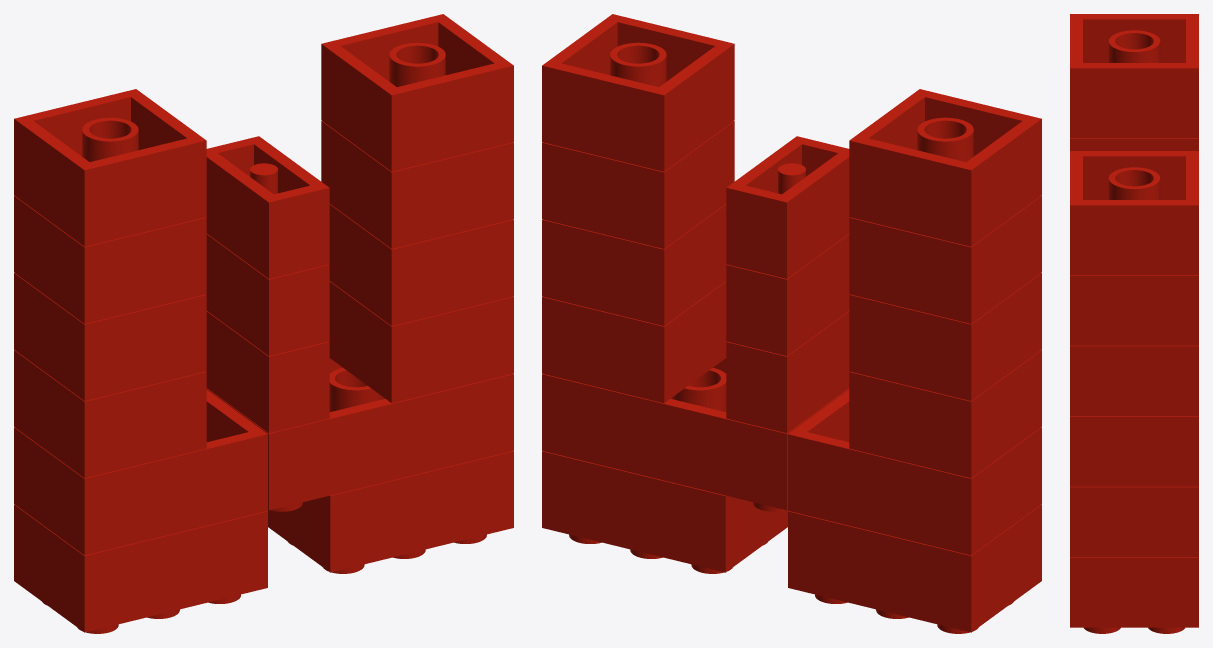
The picture shows the model from 3 angles, left to right: view 1: azimuth 30°, elevation 25°; view 2: azimuth 150°, elevation 25°; view 3: azimuth 270°, elevation 25°; orthographic projection. The views are drawn at different scales.
Visible parts, largest first — view 1: Inner-Node-W_dot_io-0, Inner-Node-W_dot_io-5, Inner-Node-W_dot_io-4, Inner-Node-W_dot_io-9, Inner-Node-W_dot_io-13, Inner-Node-W_dot_io-14, Inner-Node-W_dot_io-1, Inner-Node-W_dot_io-3, Inner-Node-W_dot_io-2, Inner-Node-W_dot_io-6, Inner-Node-W_dot_io-7, Inner-Node-W_dot_io-8 (+3 smaller); view 2: Inner-Node-W_dot_io-0, Inner-Node-W_dot_io-5, Inner-Node-W_dot_io-4, Inner-Node-W_dot_io-9, Inner-Node-W_dot_io-13, Inner-Node-W_dot_io-14, Inner-Node-W_dot_io-1, Inner-Node-W_dot_io-3, Inner-Node-W_dot_io-2, Inner-Node-W_dot_io-6, Inner-Node-W_dot_io-7, Inner-Node-W_dot_io-8 (+3 smaller); view 3: Inner-Node-W_dot_io-0, Inner-Node-W_dot_io-5, Inner-Node-W_dot_io-14, Inner-Node-W_dot_io-7, Inner-Node-W_dot_io-9, Inner-Node-W_dot_io-6, Inner-Node-W_dot_io-8, Inner-Node-W_dot_io-1.
Boxes of the visible parts, x1,y1,x2,y2 form: Inner-Node-W_dot_io-0: (14,89,206,246); Inner-Node-W_dot_io-5: (321,14,513,171); Inner-Node-W_dot_io-4: (14,389,267,555); Inner-Node-W_dot_io-9: (206,358,513,511); Inner-Node-W_dot_io-13: (14,504,267,633); Inner-Node-W_dot_io-14: (268,451,513,573); Inner-Node-W_dot_io-1: (14,195,206,323); Inner-Node-W_dot_io-3: (14,350,206,478); Inner-Node-W_dot_io-2: (14,273,206,400); Inner-Node-W_dot_io-6: (321,121,513,248); Inner-Node-W_dot_io-7: (329,204,513,325); Inner-Node-W_dot_io-8: (329,281,513,403); Inner-Node-W_dot_io-0: (849,89,1041,246); Inner-Node-W_dot_io-5: (542,14,734,171); Inner-Node-W_dot_io-4: (788,389,1041,555); Inner-Node-W_dot_io-9: (542,358,849,511); Inner-Node-W_dot_io-13: (788,504,1041,633); Inner-Node-W_dot_io-14: (542,451,787,573); Inner-Node-W_dot_io-1: (849,195,1041,323); Inner-Node-W_dot_io-3: (849,350,1041,478); Inner-Node-W_dot_io-2: (849,273,1041,400); Inner-Node-W_dot_io-6: (542,121,734,248); Inner-Node-W_dot_io-7: (542,204,726,325); Inner-Node-W_dot_io-8: (542,281,726,403); Inner-Node-W_dot_io-0: (1070,14,1198,138); Inner-Node-W_dot_io-5: (1070,151,1198,275); Inner-Node-W_dot_io-14: (1070,557,1198,633); Inner-Node-W_dot_io-7: (1070,345,1198,416); Inner-Node-W_dot_io-9: (1070,486,1198,557); Inner-Node-W_dot_io-6: (1070,275,1198,345); Inner-Node-W_dot_io-8: (1070,416,1198,486); Inner-Node-W_dot_io-1: (1070,138,1198,150).
Size of the model in its own units: 140 by 148 by 39.75.
